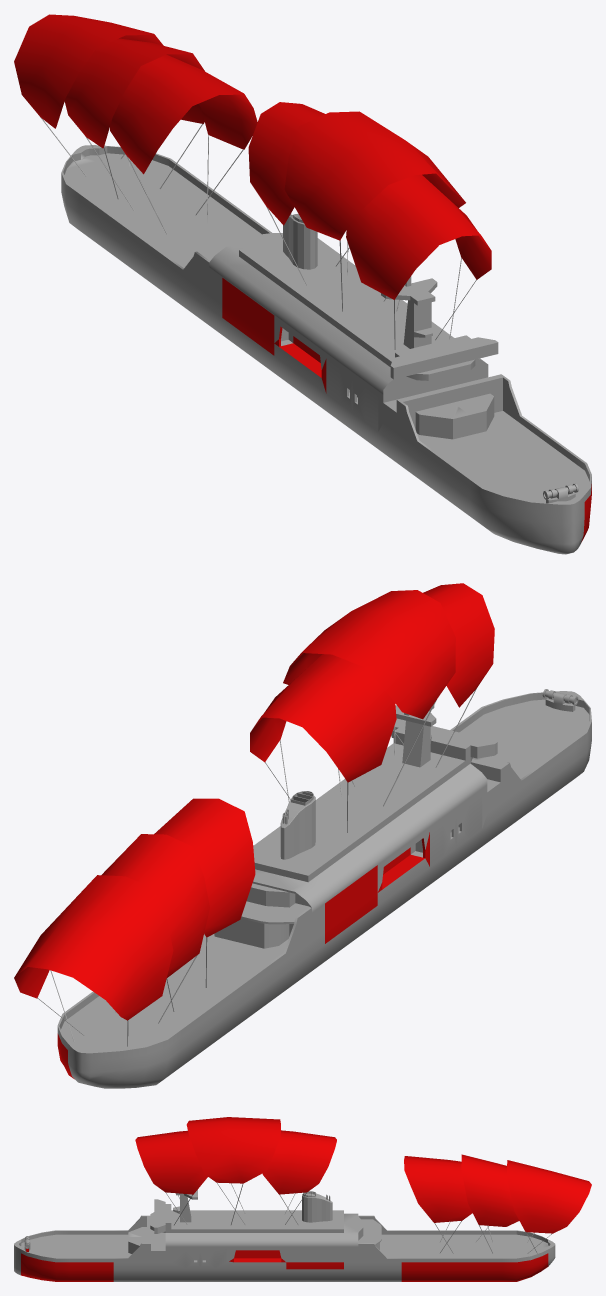
The model's file is merchant_ship_1.FBX.
3 renders of one model, top to bottom at view 1: azimuth 30°, elevation 25°; view 2: azimuth 150°, elevation 25°; view 3: azimuth 270°, elevation 25°, orthographic. The views are drawn at different scales.
Parts seen in each view (by area): view 1: Box012; view 2: Box012; view 3: Box012.
Part boxes in pixels (x1,y1,x2,y2): Box012: (14, 14, 591, 554); Box012: (14, 583, 591, 1088); Box012: (14, 1117, 591, 1281).
Size of the model in its own units: 389 by 763 by 2638.
